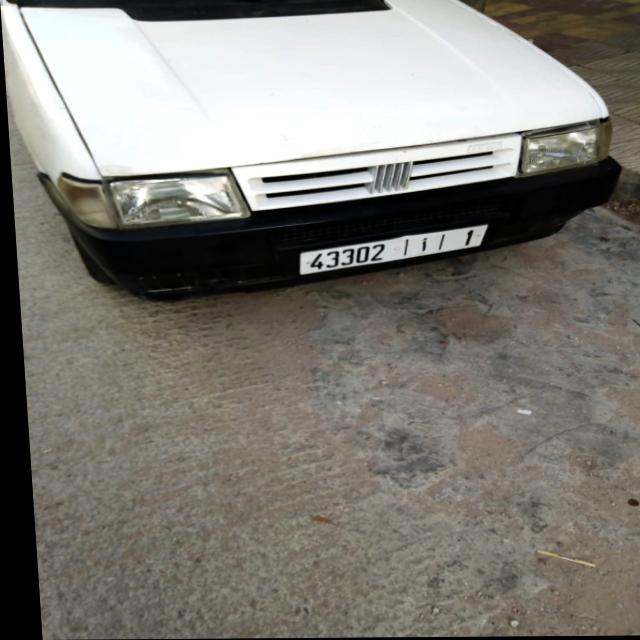License-Plate: (295, 225, 485, 275)
